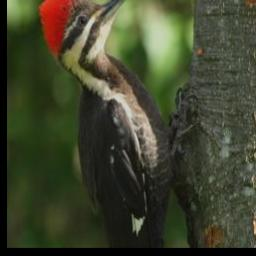Woodpecker: (40, 0, 197, 246)
